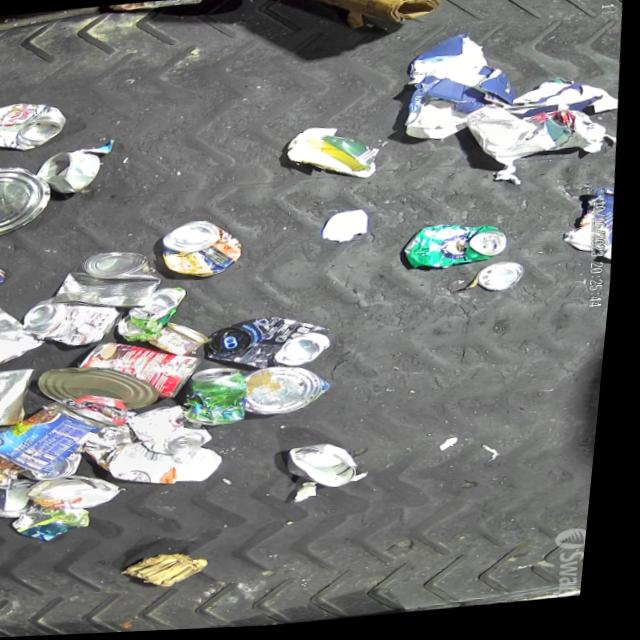can: (0, 397, 119, 479), (80, 335, 211, 409), (211, 314, 341, 378), (53, 248, 171, 318), (41, 361, 167, 419), (26, 293, 128, 352), (406, 223, 516, 276), (162, 219, 250, 284), (131, 403, 224, 460), (249, 365, 341, 421), (0, 162, 60, 240), (187, 365, 259, 429), (31, 472, 132, 514), (290, 443, 370, 496), (120, 288, 195, 344), (0, 97, 71, 154), (35, 149, 105, 198), (0, 368, 46, 430), (152, 320, 217, 361), (0, 479, 47, 522), (0, 425, 29, 494), (27, 454, 92, 483), (480, 266, 530, 297), (107, 0, 208, 15), (0, 256, 17, 312)
